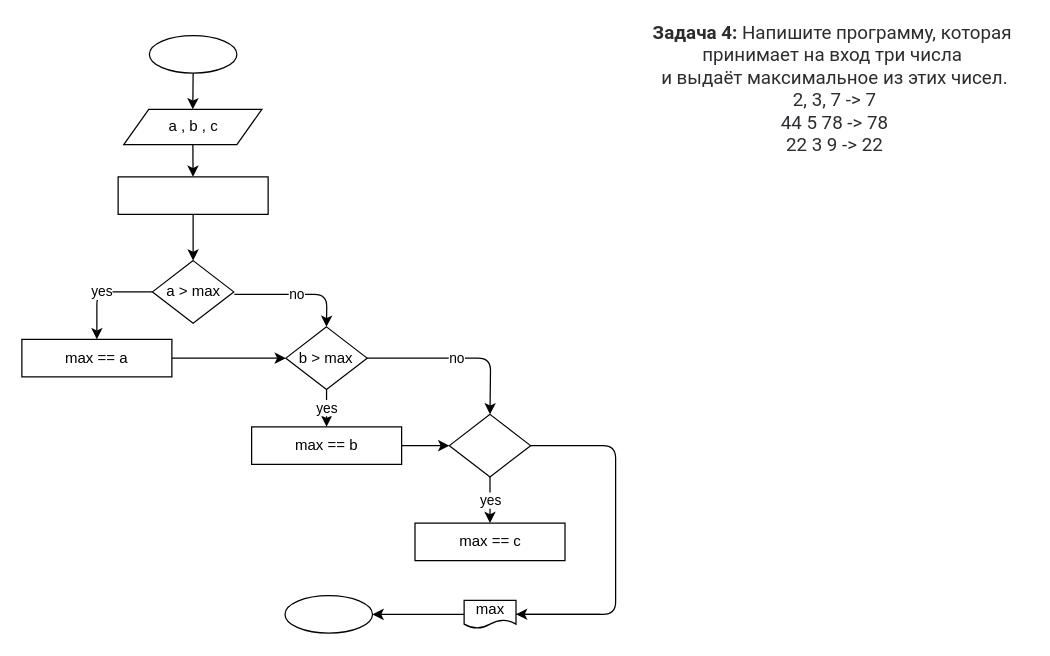
Image size: 1050x656. Some labels were removed from this diagram. Each missing label, with the centre of its shape:
"c > max" goes at (x=489, y=445).
"end" goes at (x=328, y=613).
"max = 1" goes at (x=192, y=195).
"start" goes at (x=192, y=53).
